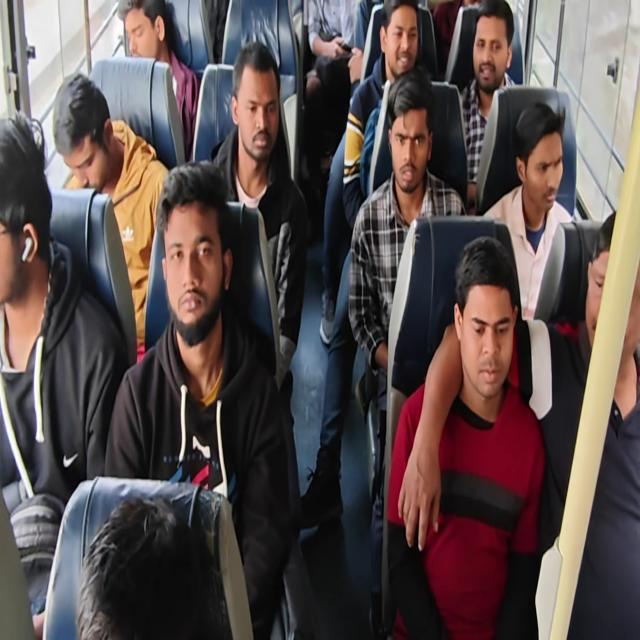person: (61, 506, 230, 640), (0, 108, 52, 310), (447, 248, 515, 399), (161, 186, 221, 338), (588, 217, 640, 386), (519, 107, 576, 218), (52, 82, 109, 191), (118, 0, 187, 83), (458, 10, 517, 101), (234, 53, 278, 169), (387, 91, 432, 188)
